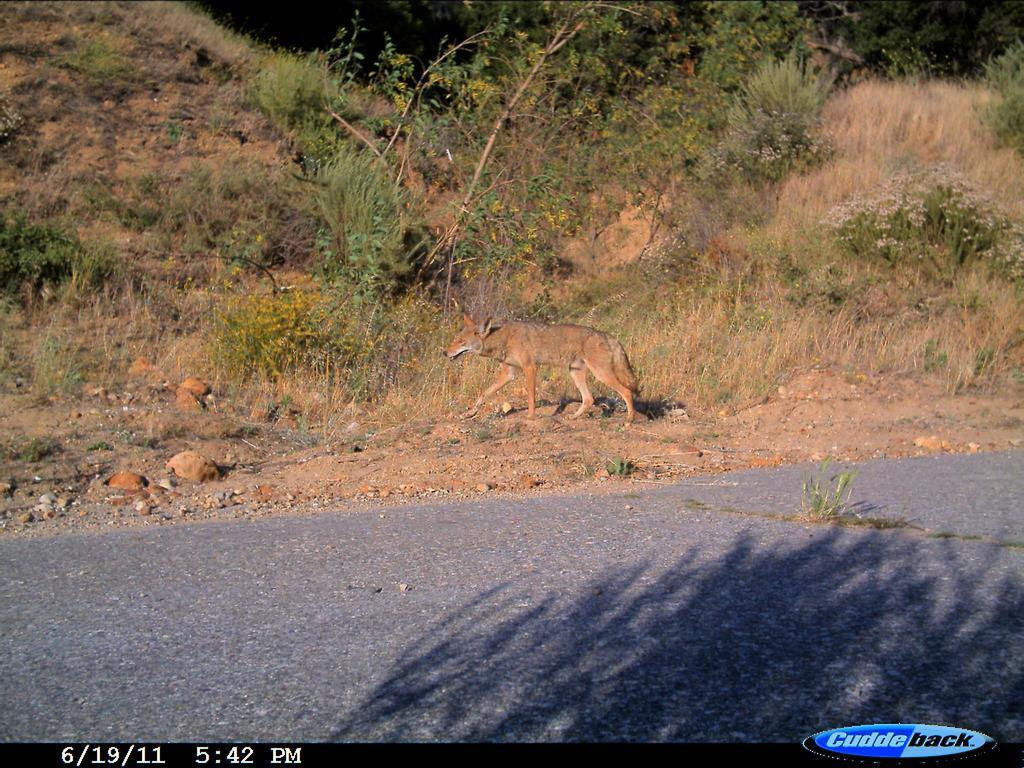coyote: (441, 304, 653, 441)
